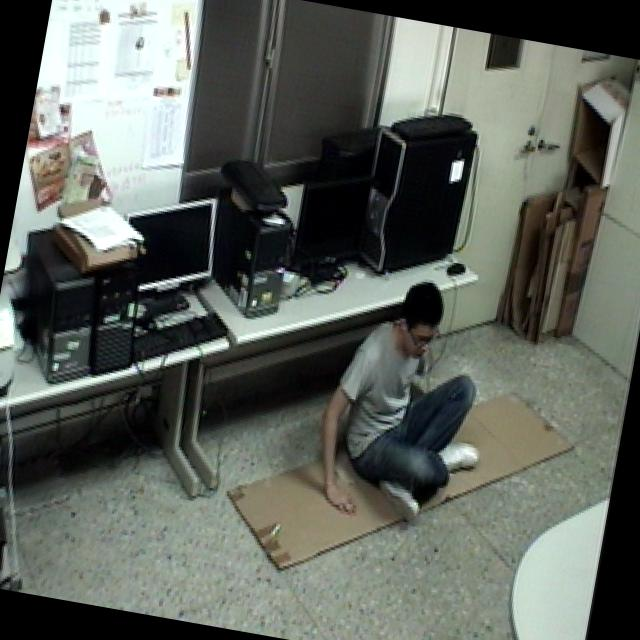sit: (304, 260, 516, 542)
